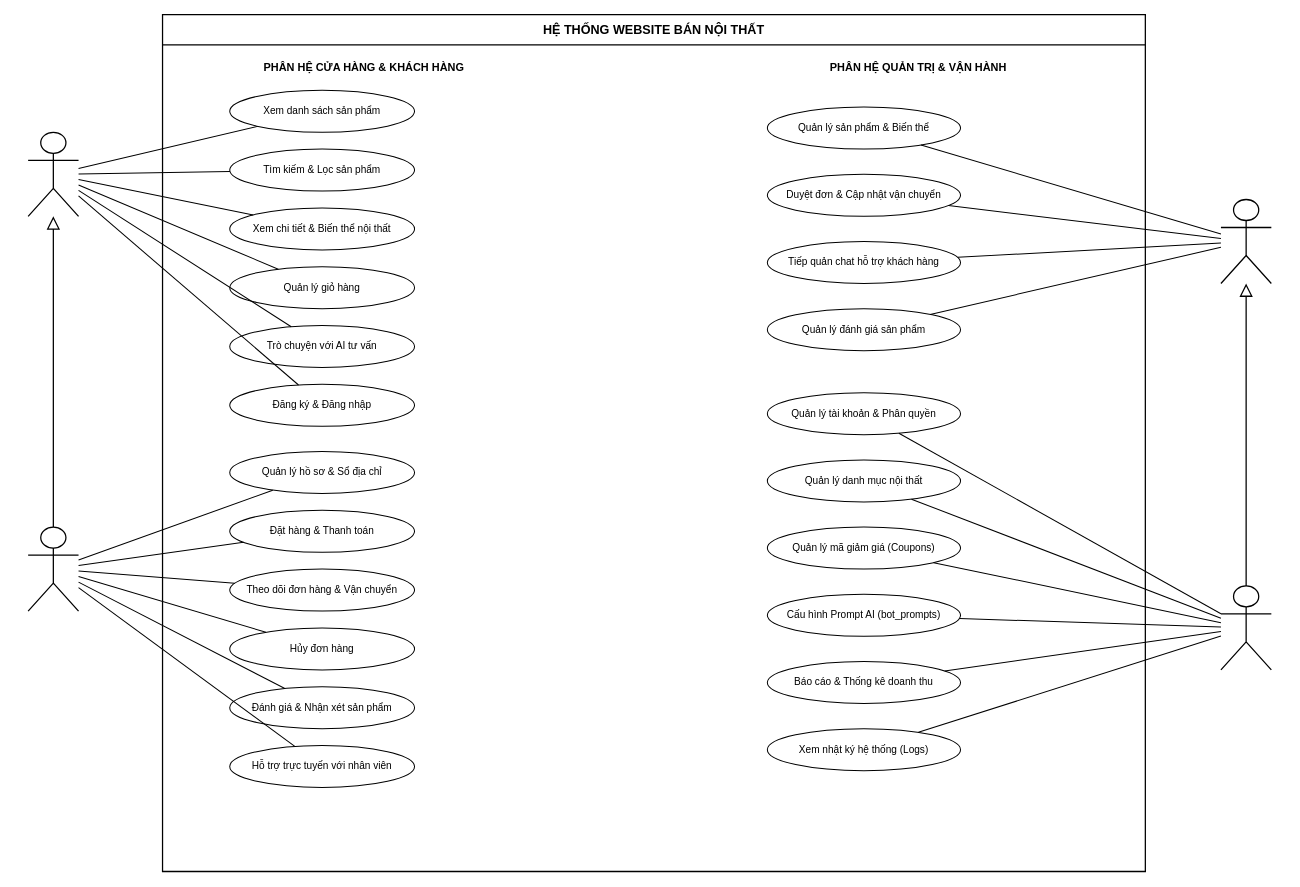
Some shapes in this 1300 by 887 pixel diagram are drawn without their labels. Each missing label, with the box of its shape:
Khách hàng (Customer): (27, 526, 79, 611)
Khách vãng lai (Guest): (27, 131, 79, 217)
Người bán / NV (Seller / Staff): (1220, 198, 1272, 284)
Quản trị viên (Admin): (1220, 585, 1272, 670)
